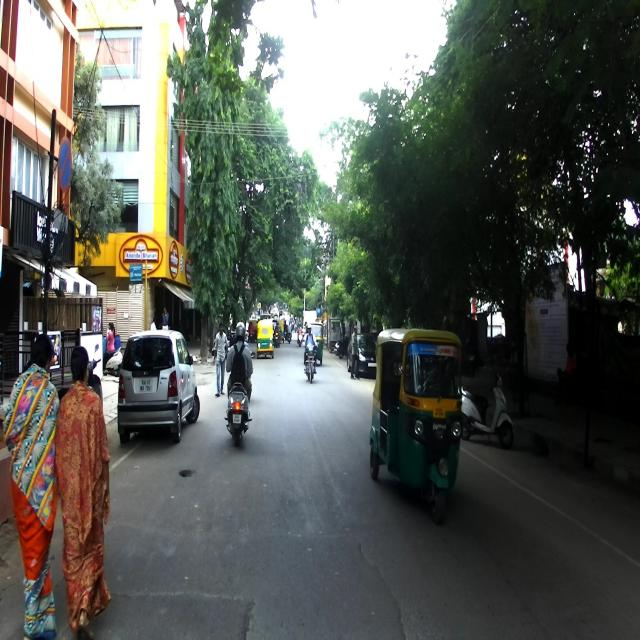autorickshaw: (369, 328, 462, 525)
car: (117, 328, 200, 443)
scooter: (457, 371, 513, 449), (224, 346, 255, 446)
